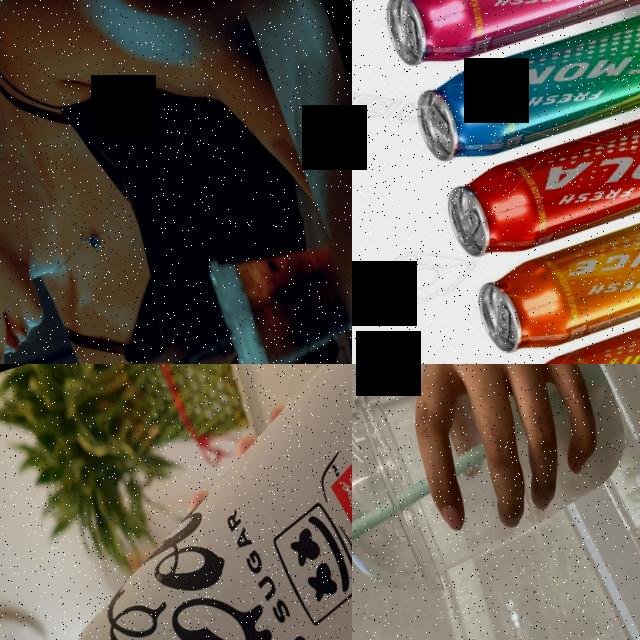can: (0, 364, 352, 640), (403, 0, 640, 176), (434, 70, 640, 269), (465, 164, 640, 364), (371, 0, 640, 83), (494, 255, 640, 364)
cup: (352, 364, 640, 619), (198, 216, 352, 364)
